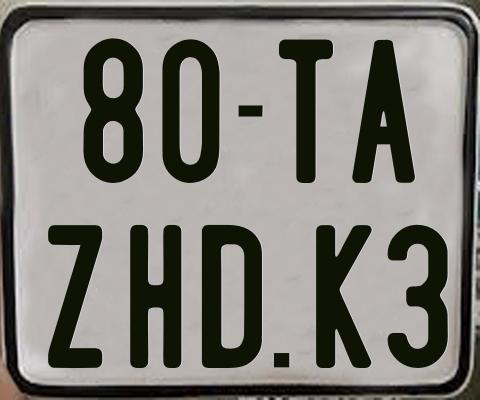0: (161, 36, 225, 183)
3: (384, 222, 449, 367)
8: (83, 35, 147, 185)
A: (349, 40, 416, 186)
D: (201, 225, 265, 372)
H: (128, 223, 184, 367)
K: (314, 225, 374, 371)
T: (279, 37, 333, 183)
Z: (46, 224, 100, 372)
